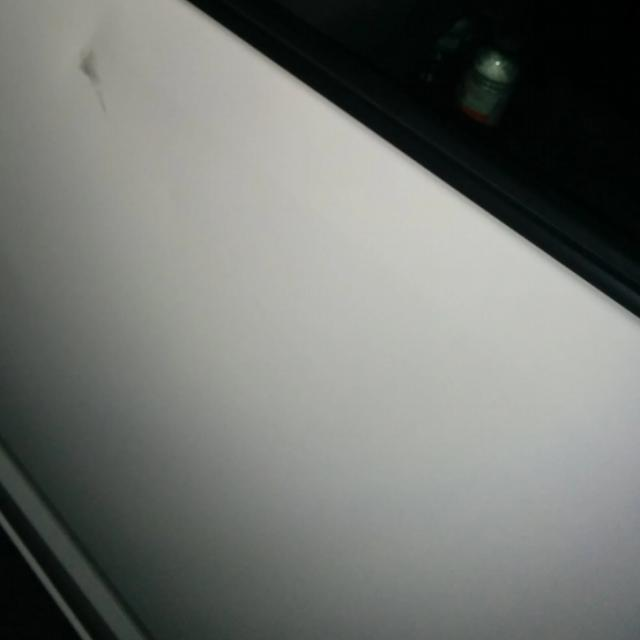dents: (43, 26, 198, 134)
